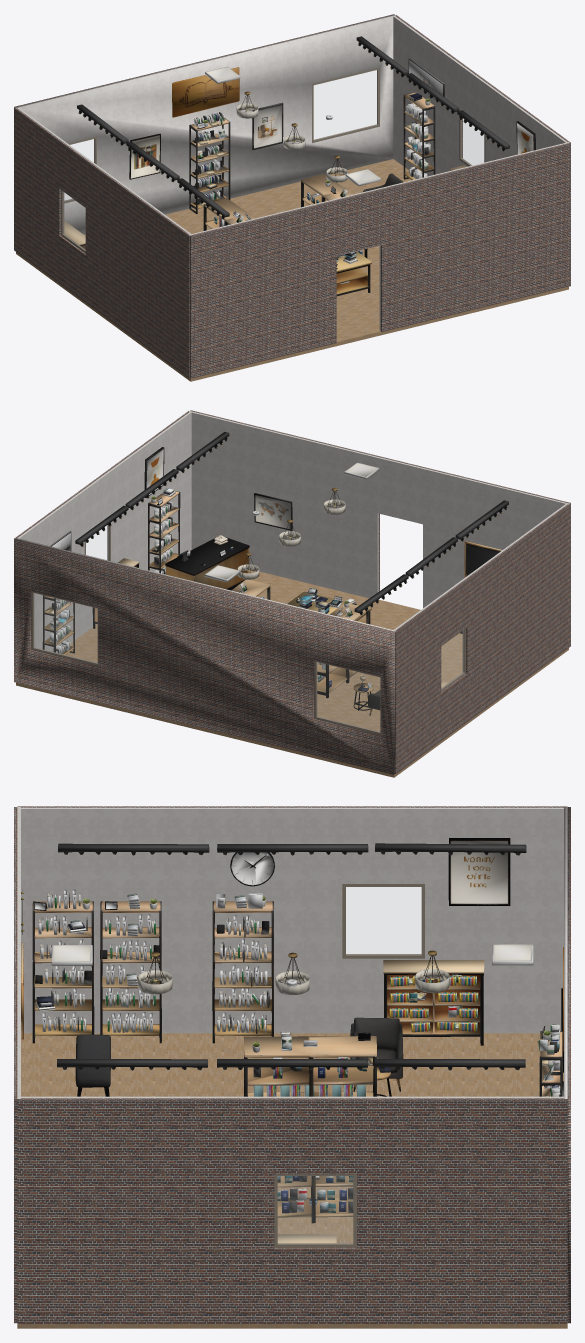
The model's file is scene_named.glb.
3 renders of one model, top to bottom at view 1: azimuth 30°, elevation 25°; view 2: azimuth 150°, elevation 25°; view 3: azimuth 270°, elevation 25°, orthographic. The views are drawn at different scales.
Visible parts, largest first — view 1: south_wall_exterior_bookstore/south_wall_exterior_bookstore/, north_wall_bookstore/north_wall_bookstore/geometry_0, west_wall_exterior_bookstore/west_wall_exterior_bookstore/ge, east_wall_bookstore/east_wall_bookstore/geometry_0, floor_bookstore, window_2_bookstore/window_2_bookstore/glass, wall_plaque_0, bookcase_5, bookcase_4, art_print_0, display_table_0, poster_0 (+16 smaller); view 2: north_wall_exterior_bookstore/north_wall_exterior_bookstore/, south_wall_bookstore/south_wall_bookstore/geometry_0, west_wall_exterior_bookstore/west_wall_exterior_bookstore/ge, east_wall_bookstore/east_wall_bookstore/geometry_0, floor_bookstore, window_2_bookstore/window_2_bookstore/glass, window_1_bookstore/window_1_bookstore/glass, checkout_counter_0, bookcase_3, world_map_print_0, shelf_unit_0, window_4_bookstore/window_4_bookstore/glass (+15 smaller); view 3: east_wall_exterior_bookstore/east_wall_exterior_bookstore/ge, west_wall_bookstore/west_wall_bookstore/geometry_0, floor_bookstore, window_4_bookstore/window_4_bookstore/glass, window_3_bookstore/window_3_bookstore/glass, shelf_unit_0, bookcase_6, quote_print_0, bookcase_1, bookcase_0, bookcase_2, north_wall_exterior_bookstore/north_wall_exterior_bookstore/ (+23 smaller).
Part boxes in pixels (<box>): south_wall_exterior_bookstore/south_wall_exterior_bookstore/: <box>189,143,570,378</box>; north_wall_bookstore/north_wall_bookstore/geometry_0: <box>15,15,395,234</box>; west_wall_exterior_bookstore/west_wall_exterior_bookstore/ge: <box>14,108,189,378</box>; east_wall_bookstore/east_wall_bookstore/geometry_0: <box>393,16,567,176</box>; floor_bookstore: <box>16,159,568,381</box>; window_2_bookstore/window_2_bookstore/glass: <box>314,70,377,139</box>; wall_plaque_0: <box>172,67,239,117</box>; bookcase_5: <box>189,118,230,213</box>; bookcase_4: <box>403,92,435,180</box>; art_print_0: <box>252,102,283,149</box>; display_table_0: <box>336,251,371,296</box>; poster_0: <box>129,133,160,179</box>; north_wall_exterior_bookstore/north_wall_exterior_bookstore/: <box>14,539,395,774</box>; south_wall_bookstore/south_wall_bookstore/geometry_0: <box>189,411,569,607</box>; west_wall_exterior_bookstore/west_wall_exterior_bookstore/ge: <box>395,504,570,774</box>; east_wall_bookstore/east_wall_bookstore/geometry_0: <box>17,412,191,651</box>; floor_bookstore: <box>16,570,568,777</box>; window_2_bookstore/window_2_bookstore/glass: <box>34,593,97,662</box>; window_1_bookstore/window_1_bookstore/glass: <box>317,662,379,731</box>; checkout_counter_0: <box>165,537,249,590</box>; bookcase_3: <box>148,490,180,573</box>; world_map_print_0: <box>254,493,292,530</box>; shelf_unit_0: <box>317,603,369,698</box>; window_4_bookstore/window_4_bookstore/glass: <box>441,631,463,687</box>; east_wall_exterior_bookstore/east_wall_exterior_bookstore/ge: <box>17,1098,567,1323</box>; west_wall_bookstore/west_wall_bookstore/geometry_0: <box>21,807,563,1033</box>; floor_bookstore: <box>17,1033,567,1328</box>; window_4_bookstore/window_4_bookstore/glass: <box>346,887,421,954</box>; window_3_bookstore/window_3_bookstore/glass: <box>278,1176,352,1243</box>; shelf_unit_0: <box>244,1036,376,1096</box>; bookcase_6: <box>383,960,484,1045</box>; quote_print_0: <box>448,838,510,905</box>; bookcase_1: <box>212,901,273,1043</box>; bookcase_0: <box>100,901,161,1043</box>; bookcase_2: <box>32,901,94,1043</box>; north_wall_exterior_bookstore/north_wall_exterior_bookstore/: <box>567,807,570,1323</box>.
Size of the model in its own units: 10.1 by 3.7 by 8.1.
76 materials, 74 textured.
